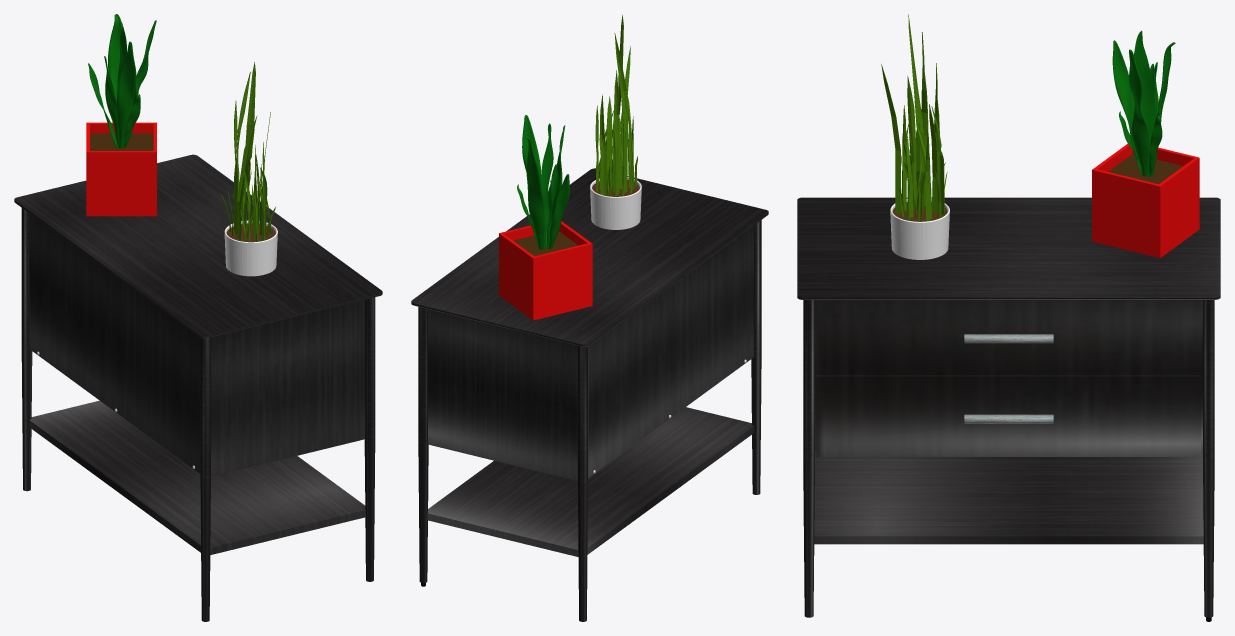
File: endTable.glb
3 renders of one model, left to right at view 1: azimuth 30°, elevation 25°; view 2: azimuth 150°, elevation 25°; view 3: azimuth 270°, elevation 25°, orthographic. The views are drawn at different scales.
Visible parts, largest first — view 1: Cube, Cube.001, Cube.003, pot, Cylinder, Snake plant; view 2: Cube, Cube.001, Cube.003, pot, Cylinder, Snake plant; view 3: Cube.002, Cube.001, Cube.003, pot, Snake plant, Cylinder, Cube.004, Cube.
Part boxes in pixels (bbox=[...]): Cube: bbox=[29, 214, 365, 476]; Cube.001: bbox=[14, 154, 382, 338]; Cube.003: bbox=[29, 400, 365, 554]; pot: bbox=[86, 14, 156, 216]; Cylinder: bbox=[21, 208, 375, 621]; Snake plant: bbox=[221, 62, 277, 276]; Cube: bbox=[428, 225, 753, 480]; Cube.001: bbox=[411, 168, 768, 346]; Cube.003: bbox=[427, 407, 754, 556]; pot: bbox=[499, 115, 592, 320]; Cylinder: bbox=[418, 220, 761, 621]; Snake plant: bbox=[590, 14, 641, 229]; Cube.002: bbox=[816, 300, 1201, 456]; Cube.001: bbox=[797, 197, 1220, 299]; Cube.003: bbox=[814, 451, 1203, 544]; pot: bbox=[1092, 30, 1199, 257]; Snake plant: bbox=[881, 14, 949, 259]; Cylinder: bbox=[803, 300, 1214, 617]; Cube.004: bbox=[964, 334, 1053, 423]; Cube: bbox=[815, 300, 1202, 451].
Bounding box in the file's own units: 13.04 × 34.67 × 23.41.
Materials: 17 (6 with a texture image).
